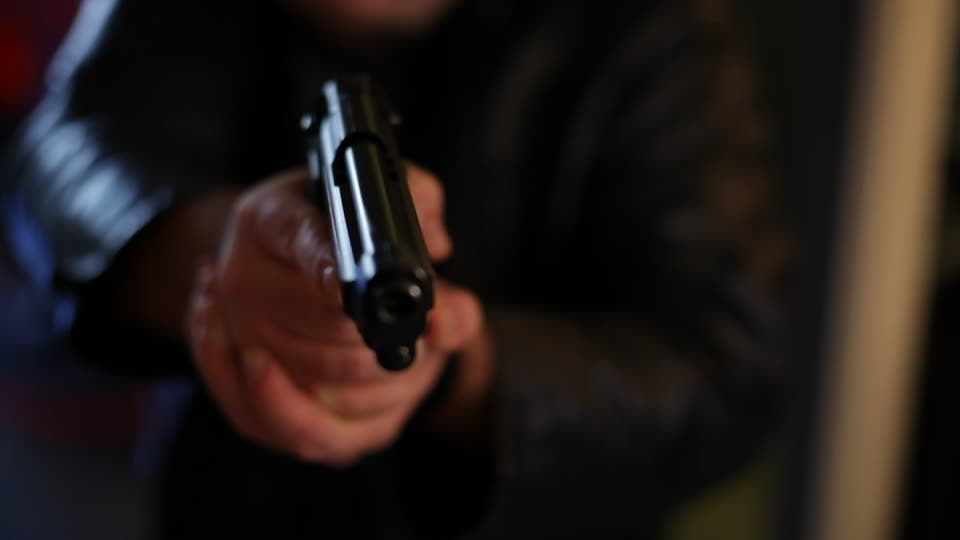Arma Real: (297, 69, 440, 388)
